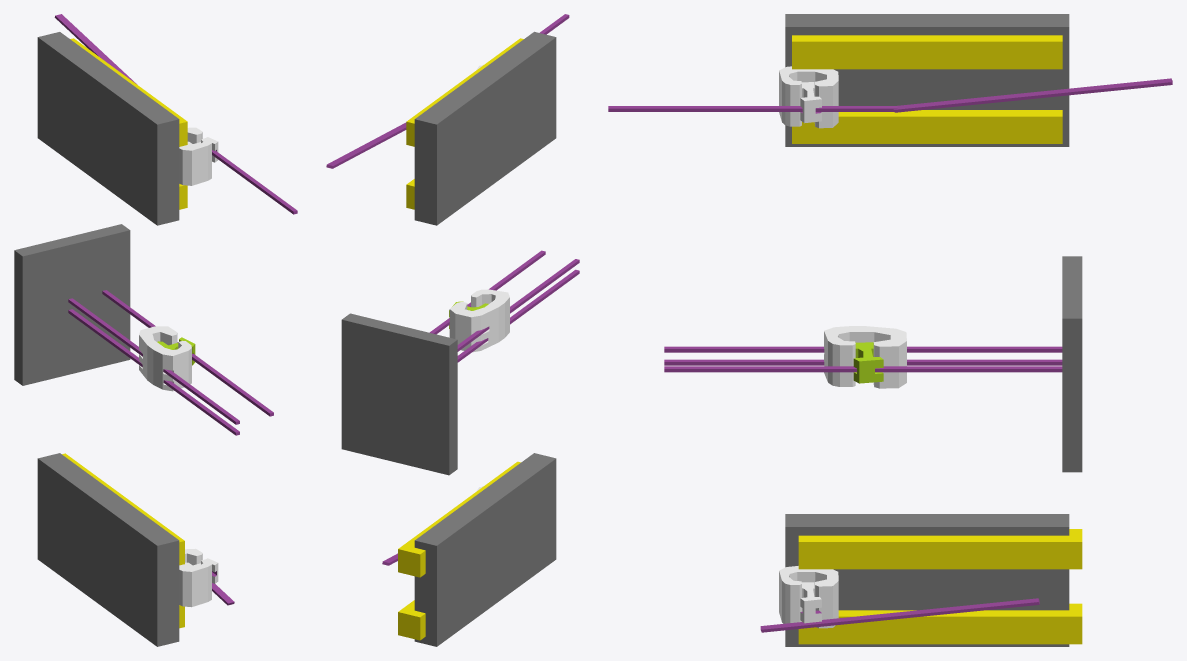
File: stopper_v2.obj
The picture shows the model from 3 angles, left to right: view 1: azimuth 30°, elevation 25°; view 2: azimuth 150°, elevation 25°; view 3: azimuth 270°, elevation 25°; orthographic projection. The views are drawn at different scales.
Visible parts, largest first — view 1: Object.2, Object.8, Object.14, Object.18, Object.1, Object.7, Object.17, Object.19, Object.16, Object.9, Object.3, Object.13 (+1 smaller); view 2: Object.8, Object.2, Object.14, Object.18, Object.3, Object.4, Object.17, Object.19, Object.9, Object.11, Object.16; view 3: Object.2, Object.8, Object.3, Object.9, Object.4, Object.10, Object.14, Object.18, Object.16, Object.1, Object.7, Object.17 (+5 smaller).
Boxes of the visible parts, <box> form: Object.2: <box>37,453,179,646</box>; Object.8: <box>37,32,179,225</box>; Object.14: <box>14,224,130,385</box>; Object.18: <box>139,326,191,391</box>; Object.1: <box>179,548,211,607</box>; Object.7: <box>179,127,211,185</box>; Object.17: <box>68,298,239,424</box>; Object.19: <box>68,309,239,435</box>; Object.16: <box>102,290,273,416</box>; Object.9: <box>70,38,187,146</box>; Object.3: <box>62,453,184,565</box>; Object.13: <box>212,150,297,214</box>; Object.8: <box>414,31,556,225</box>; Object.2: <box>414,453,556,646</box>; Object.14: <box>341,313,457,475</box>; Object.18: <box>449,289,509,352</box>; Object.3: <box>398,461,520,577</box>; Object.4: <box>398,600,425,640</box>; Object.17: <box>457,259,579,351</box>; Object.19: <box>457,269,579,362</box>; Object.9: <box>406,38,523,146</box>; Object.11: <box>326,122,406,168</box>; Object.16: <box>429,250,545,334</box>; Object.2: <box>785,514,1069,646</box>; Object.8: <box>785,14,1069,146</box>; Object.3: <box>798,529,1082,569</box>; Object.9: <box>792,35,1062,69</box>; Object.4: <box>798,603,1082,644</box>; Object.10: <box>792,110,1062,143</box>; Object.14: <box>1062,256,1082,472</box>; Object.18: <box>824,326,906,388</box>; Object.16: <box>664,366,1062,372</box>; Object.1: <box>779,566,838,628</box>; Object.7: <box>779,66,838,128</box>; Object.17: <box>664,346,1062,352</box>.
Size of the model in its own units: 194 by 901 by 743.
